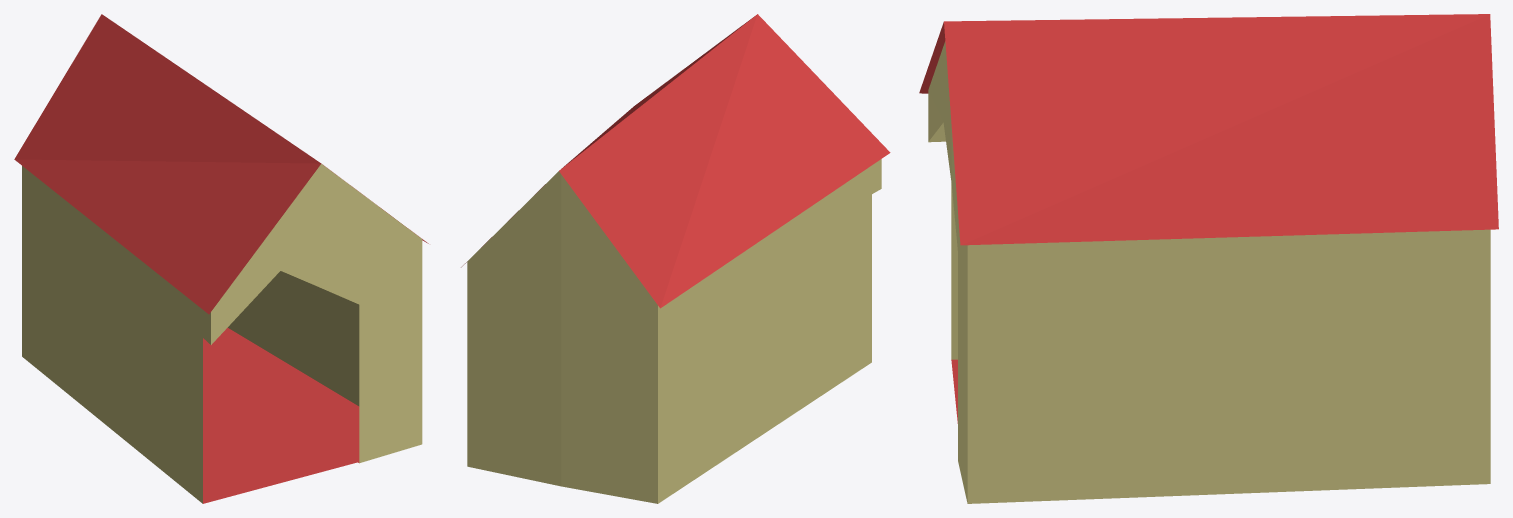
The picture shows the model from 3 angles, left to right: view 1: azimuth 30°, elevation 25°; view 2: azimuth 150°, elevation 25°; view 3: azimuth 270°, elevation 25°; orthographic projection. The views are drawn at different scales.
Size of the model in its own units: 11.33 by 18.26 by 14.33.
